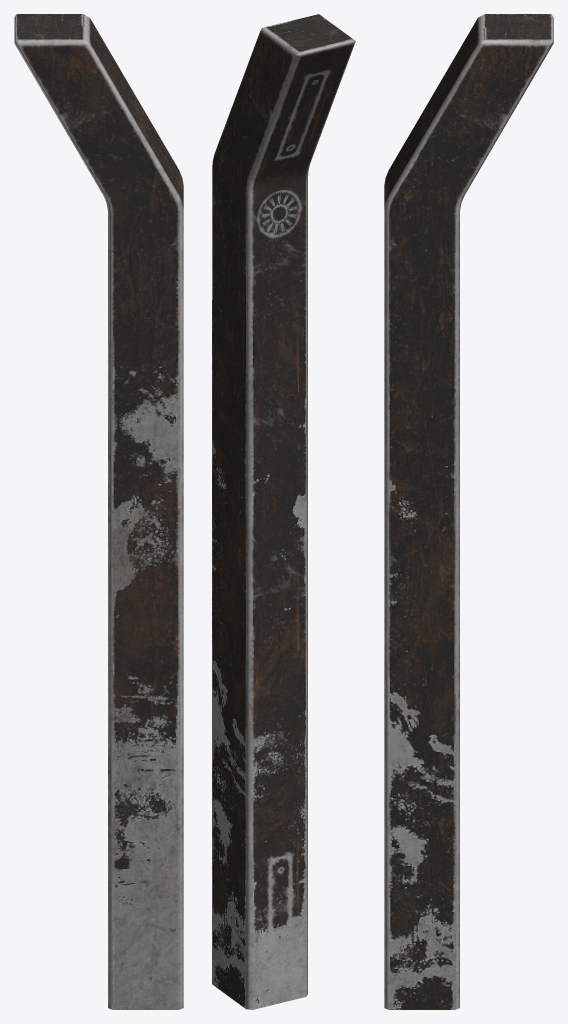
Rendered from SM_MetalFenceColumn.fbx.
3 renders of one model, left to right at view 1: azimuth 90°, elevation 25°; view 2: azimuth 210°, elevation 25°; view 3: azimuth 270°, elevation 25°, orthographic. The views are drawn at different scales.
Parts seen in each view (by area): view 1: SM_MetalFenceColumn_LOD0; view 2: SM_MetalFenceColumn_LOD0; view 3: SM_MetalFenceColumn_LOD0.
Boxes of the visible parts, <box> form: SM_MetalFenceColumn_LOD0: <box>14,14,183,1009</box>; SM_MetalFenceColumn_LOD0: <box>212,14,355,1009</box>; SM_MetalFenceColumn_LOD0: <box>384,14,553,1009</box>.
Size of the model in its own units: 25.65 by 62.38 by 393.
Materials: 1 (1 with a texture image).
